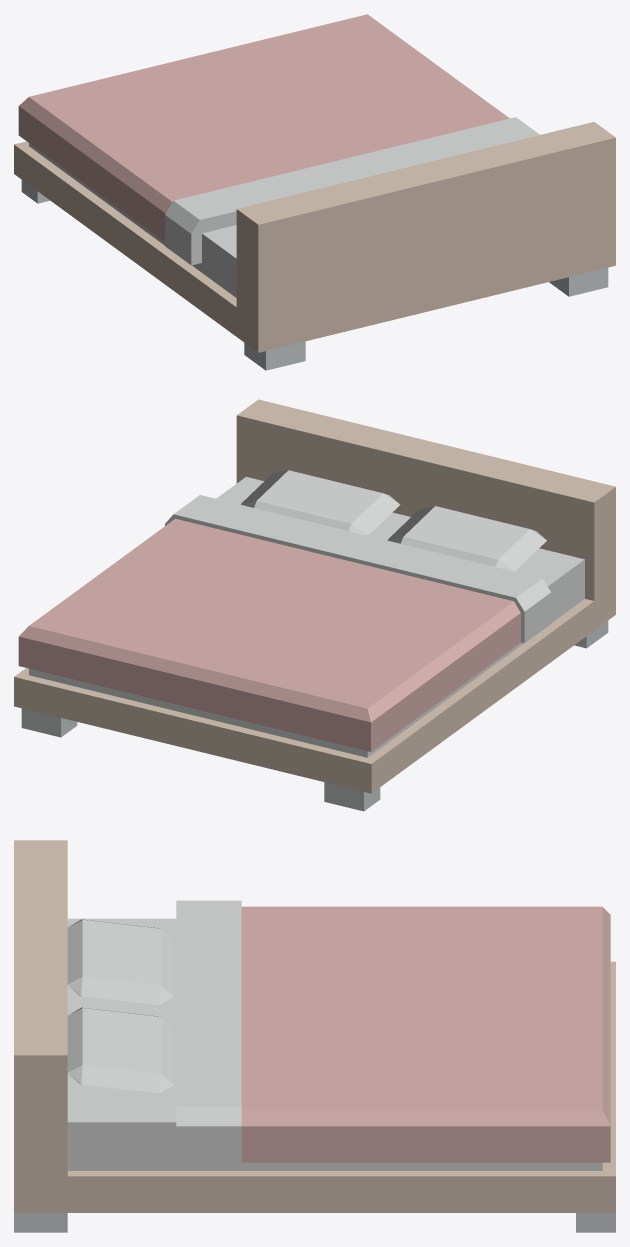
Rendered from furn_bed.glb.
3 views of the same model, one above another, from view 1: azimuth 30°, elevation 25°; view 2: azimuth 150°, elevation 25°; view 3: azimuth 270°, elevation 25° (orthographic). The views are drawn at different scales.
Bounding box in the file's own units: 1.91 × 0.75 × 2.25.
